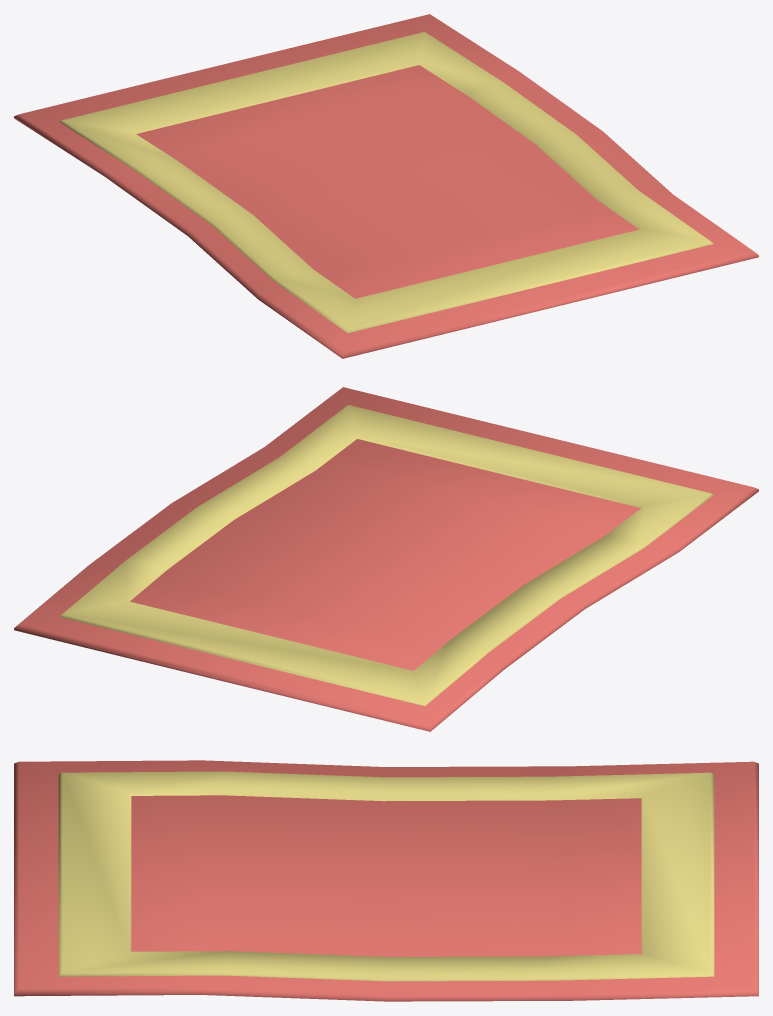
File: props_carpet_squarred.fbx
3 renders of one model, top to bottom at view 1: azimuth 30°, elevation 25°; view 2: azimuth 150°, elevation 25°; view 3: azimuth 270°, elevation 25°, orthographic. The views are drawn at different scales.
Visible parts, largest first — view 1: Cube; view 2: Cube; view 3: Cube.
Part boxes in pixels (x1,y1,x2,y2): Cube: (14,14,758,358); Cube: (14,387,758,731); Cube: (14,760,758,1001).
Bounding box in the file's own units: 552 × 10.33 × 732.
